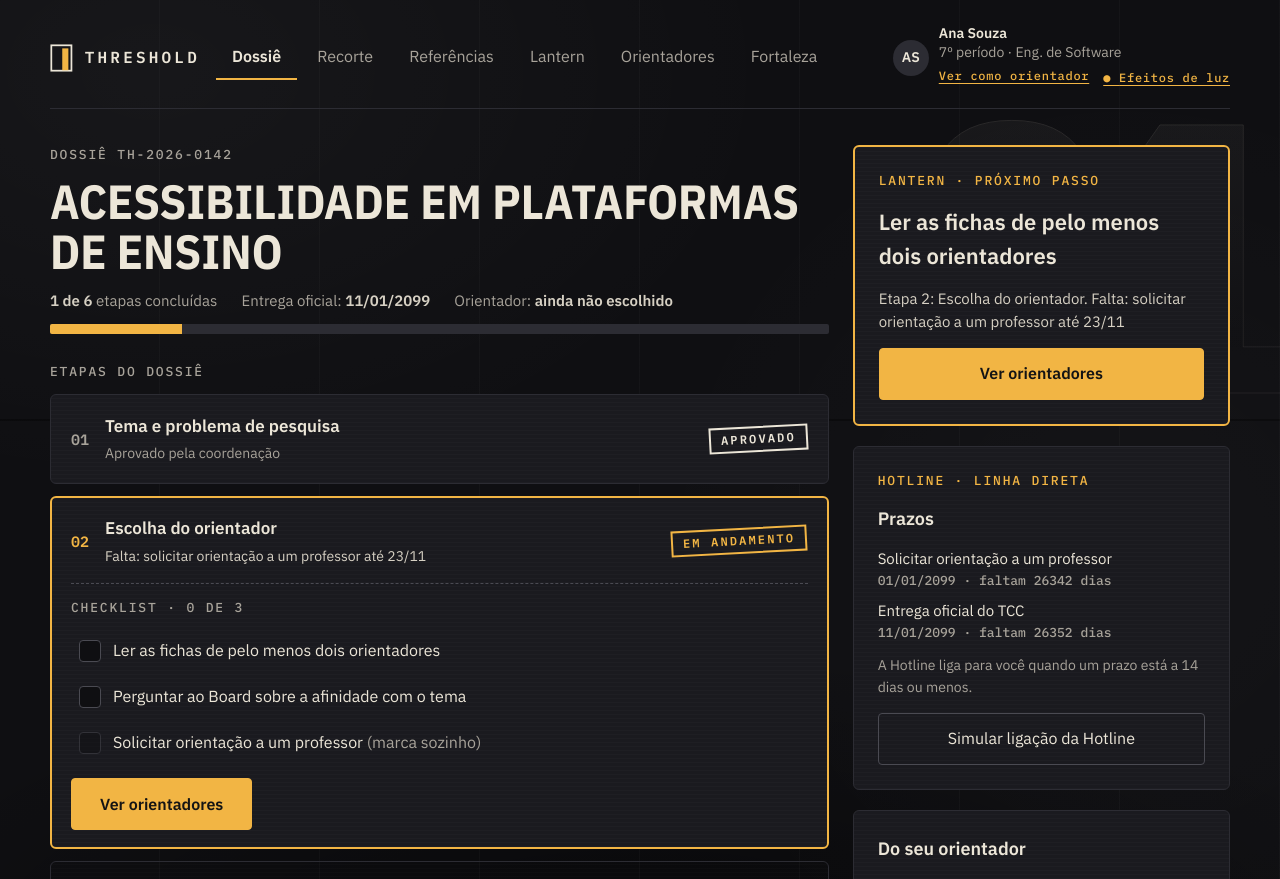
Test: Dossiê › marcar um item do checklist salva no servidor e atualiza a contagem
Click the checkbox labelled "Ler as fichas de pelo menos dois orientadores".
click(90, 651)  # box left=79, top=640, right=101, bottom=662
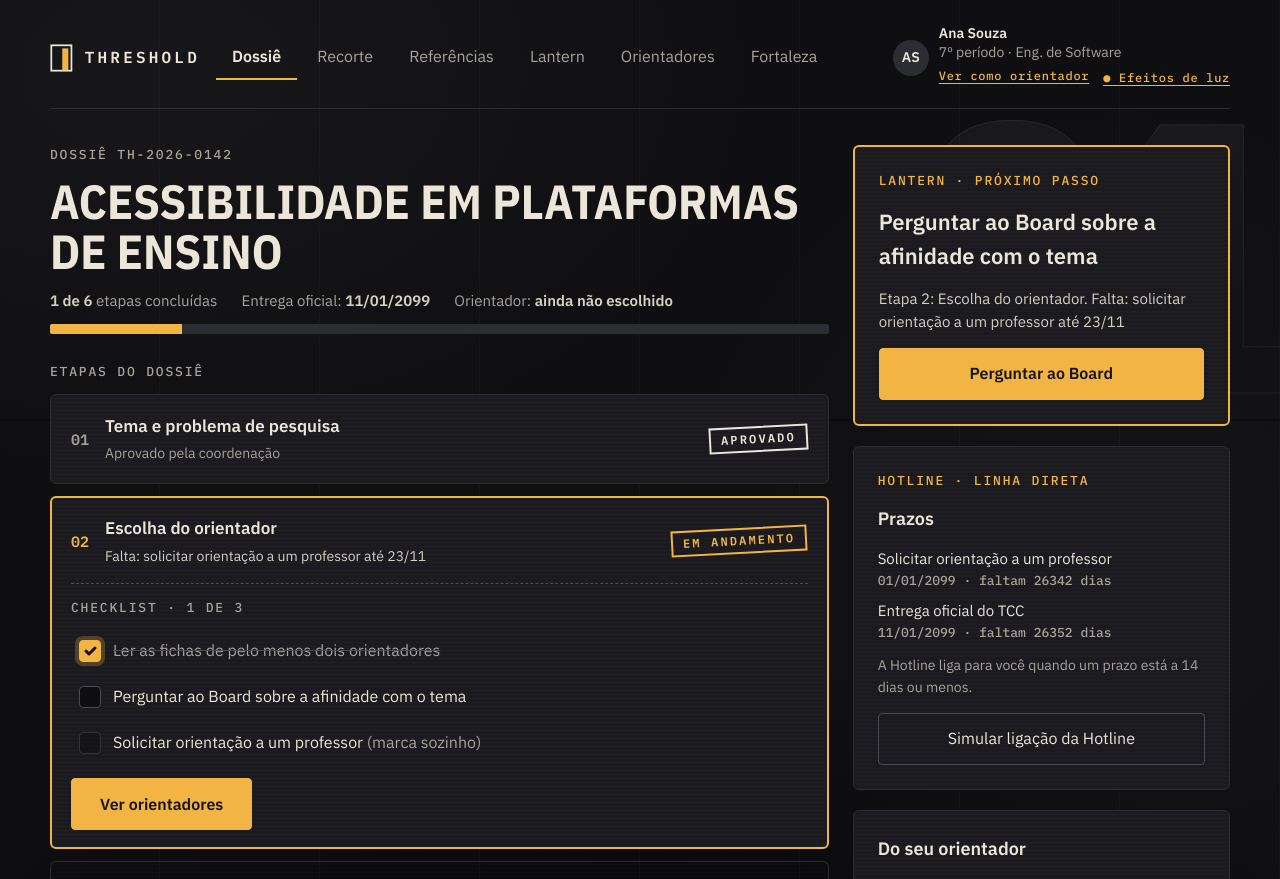
Expected: the text "Checklist · 1 de 3" is shown, left=71, top=599, right=244, bottom=616
